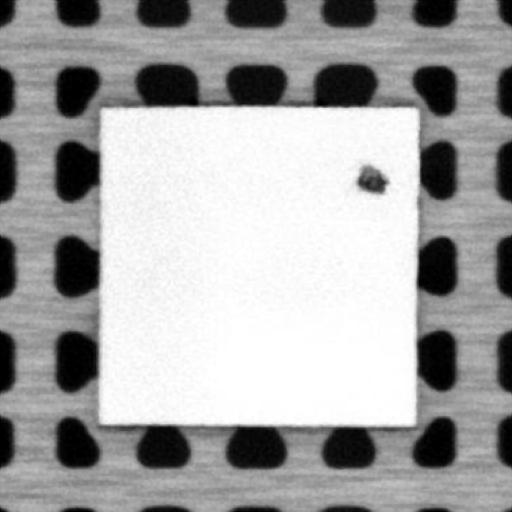DIE_INK: (352, 159, 390, 196)
